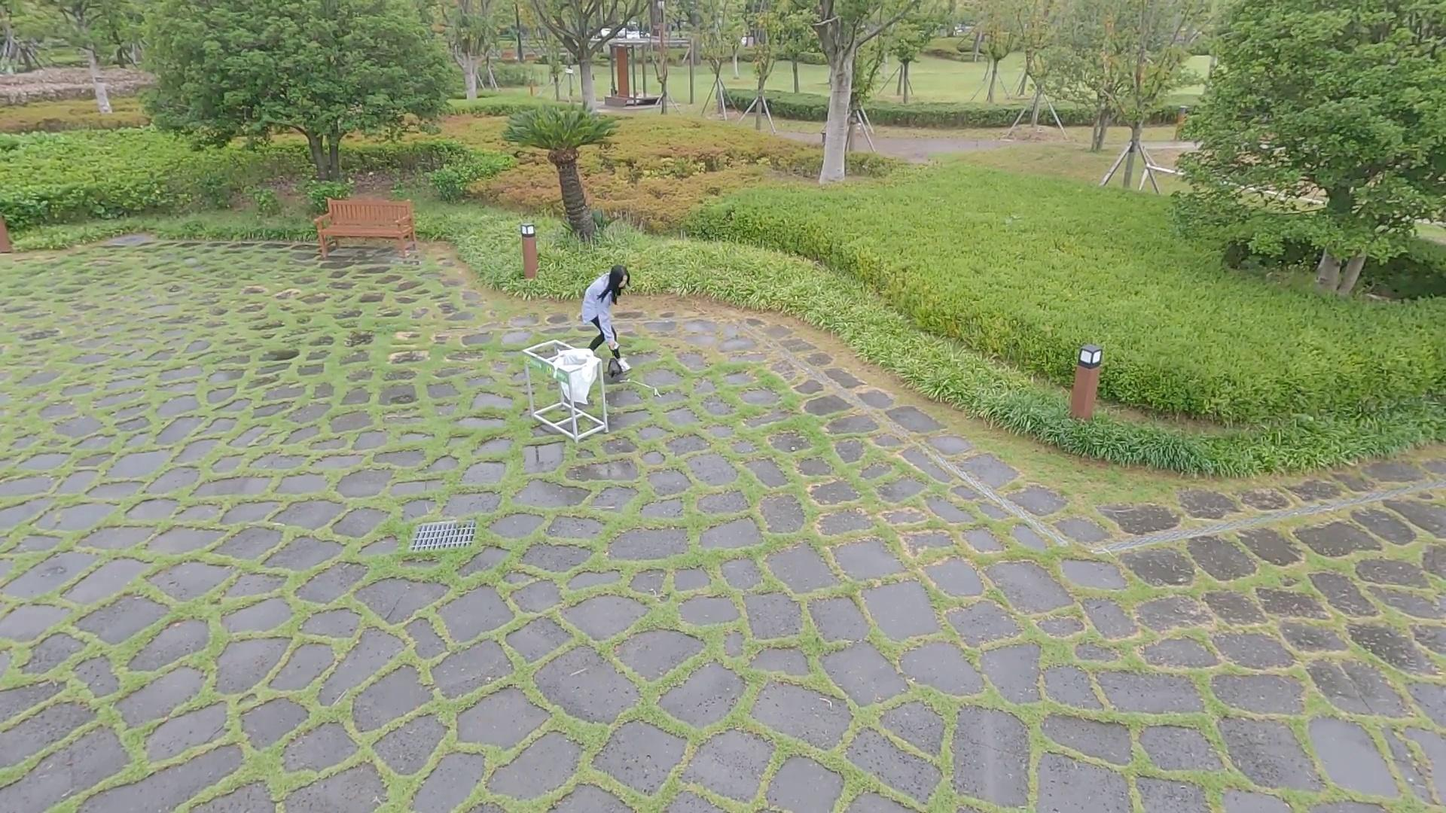trash: (579, 260, 636, 377), (603, 348, 628, 377)
